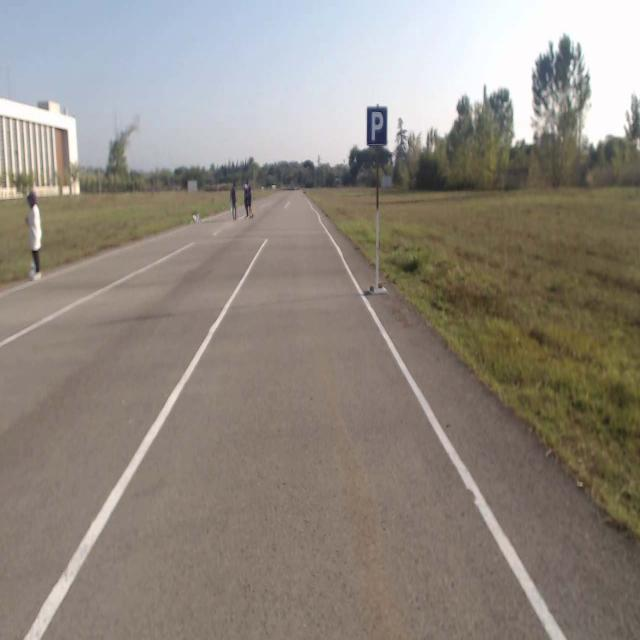park: (368, 108, 387, 144)
